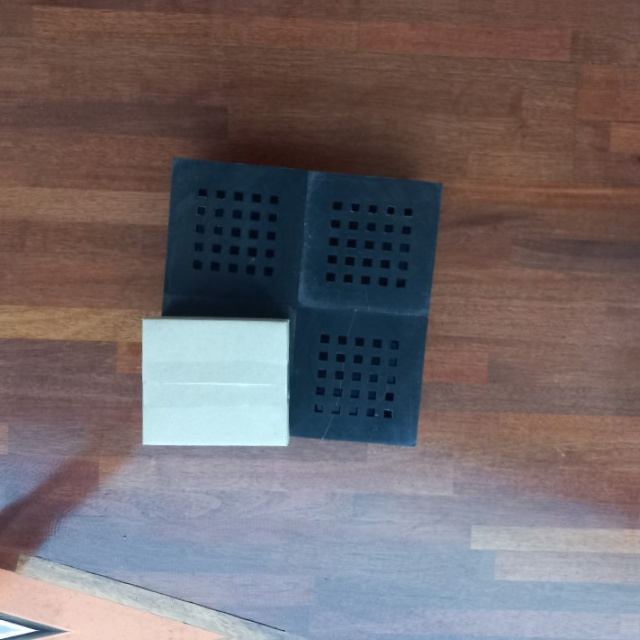box: (137, 316, 291, 451)
pallet: (142, 151, 445, 450)
